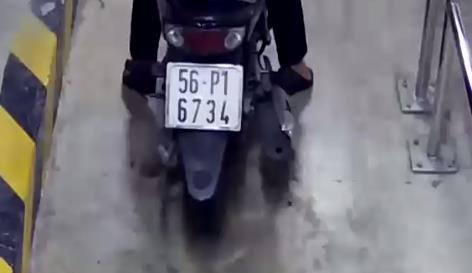lisence: (162, 62, 248, 132)
